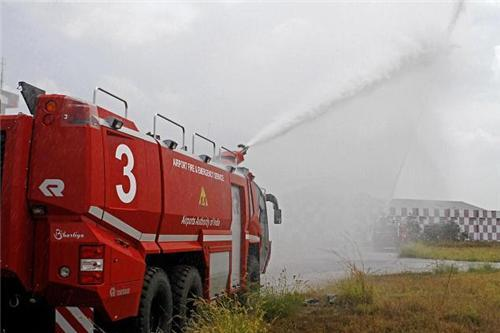ambulance: (0, 87, 281, 333)
